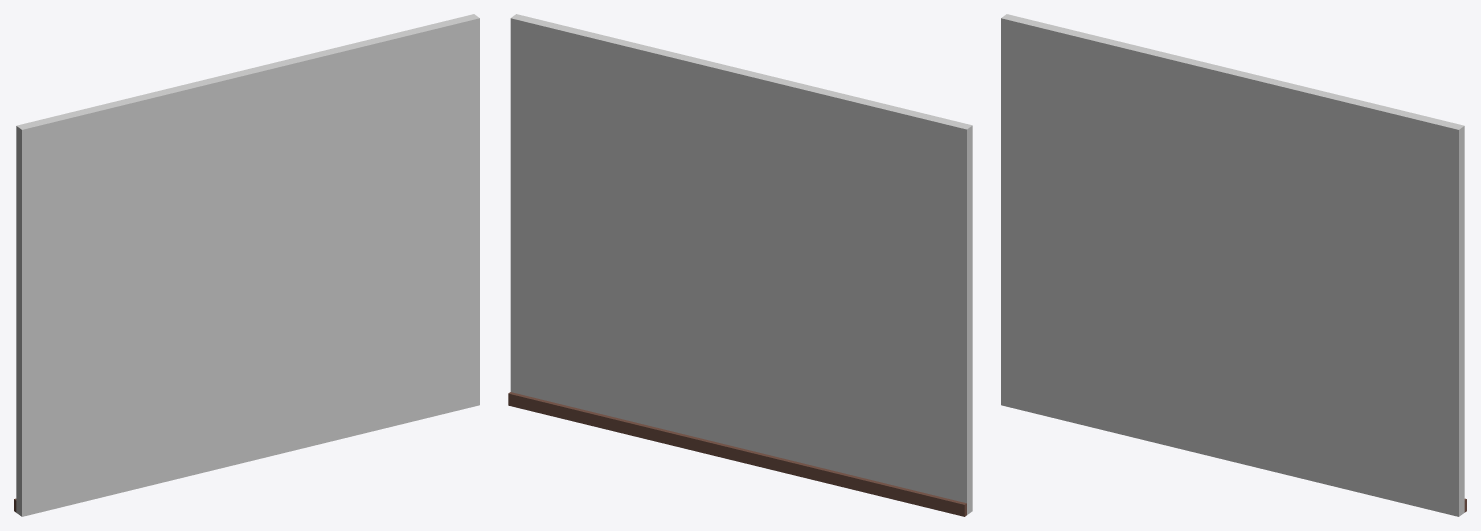
The model's file is Wand_Weiß.fbx.
3 renders of one model, left to right at view 1: azimuth 30°, elevation 25°; view 2: azimuth 150°, elevation 25°; view 3: azimuth 330°, elevation 25°, orthographic.
Visible parts, largest first — view 1: mesh_620602825; view 2: mesh_620602825, mesh_1259321110; view 3: mesh_620602825.
Boxes of the visible parts, x1,y1,x2,y2 form: mesh_620602825: (16, 14, 479, 516); mesh_620602825: (510, 14, 972, 514); mesh_1259321110: (508, 392, 966, 516); mesh_620602825: (1001, 14, 1464, 516).
Bounding box in the file's own units: 952 × 769 × 28.84.
